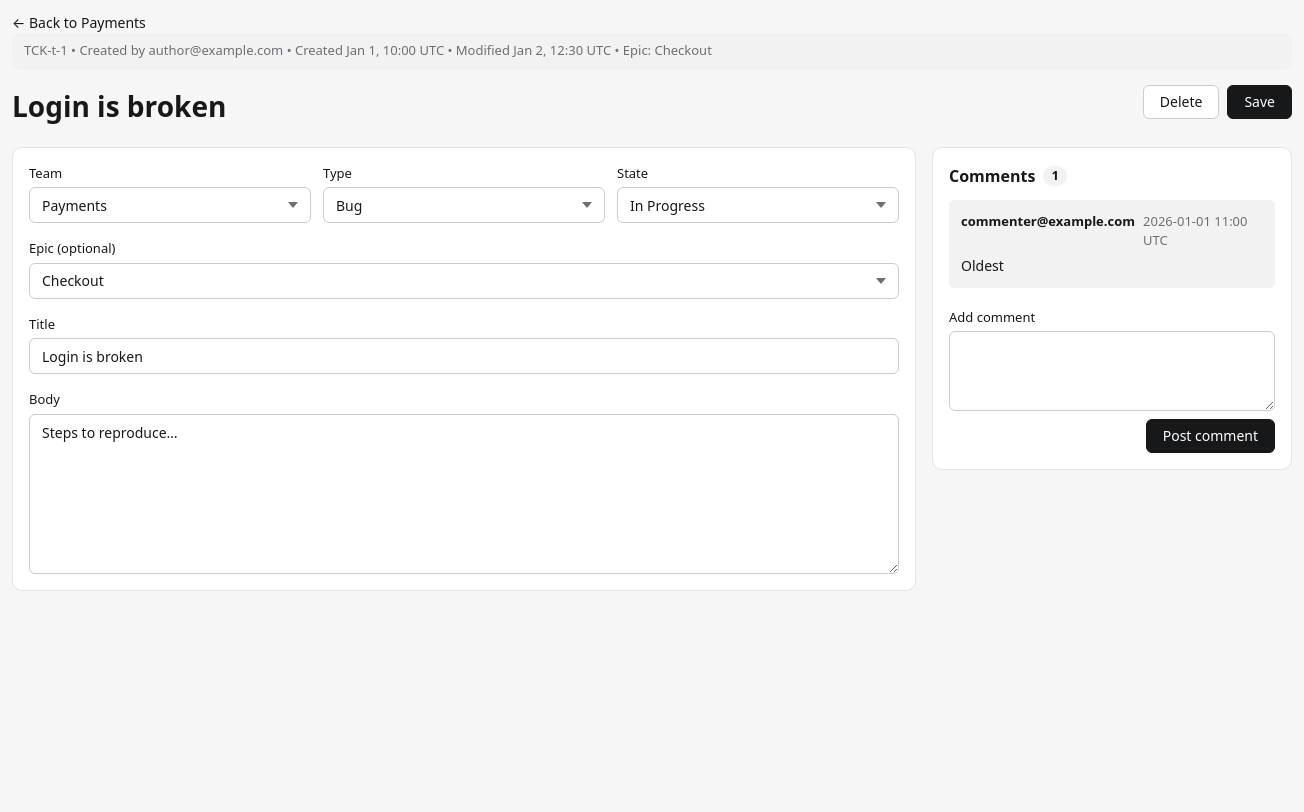
it: Comments panel › posts a comment and refetches the list
This screenshot has width=1304, height=812.
Expected: the text "Oldest" is shown, x1=961 y1=256 x2=1004 y2=274
Type "Fresh comment" into the text box labelled "Add comment". click: x=1112, y=371
box: x1=949 y1=331 x2=1275 y2=411
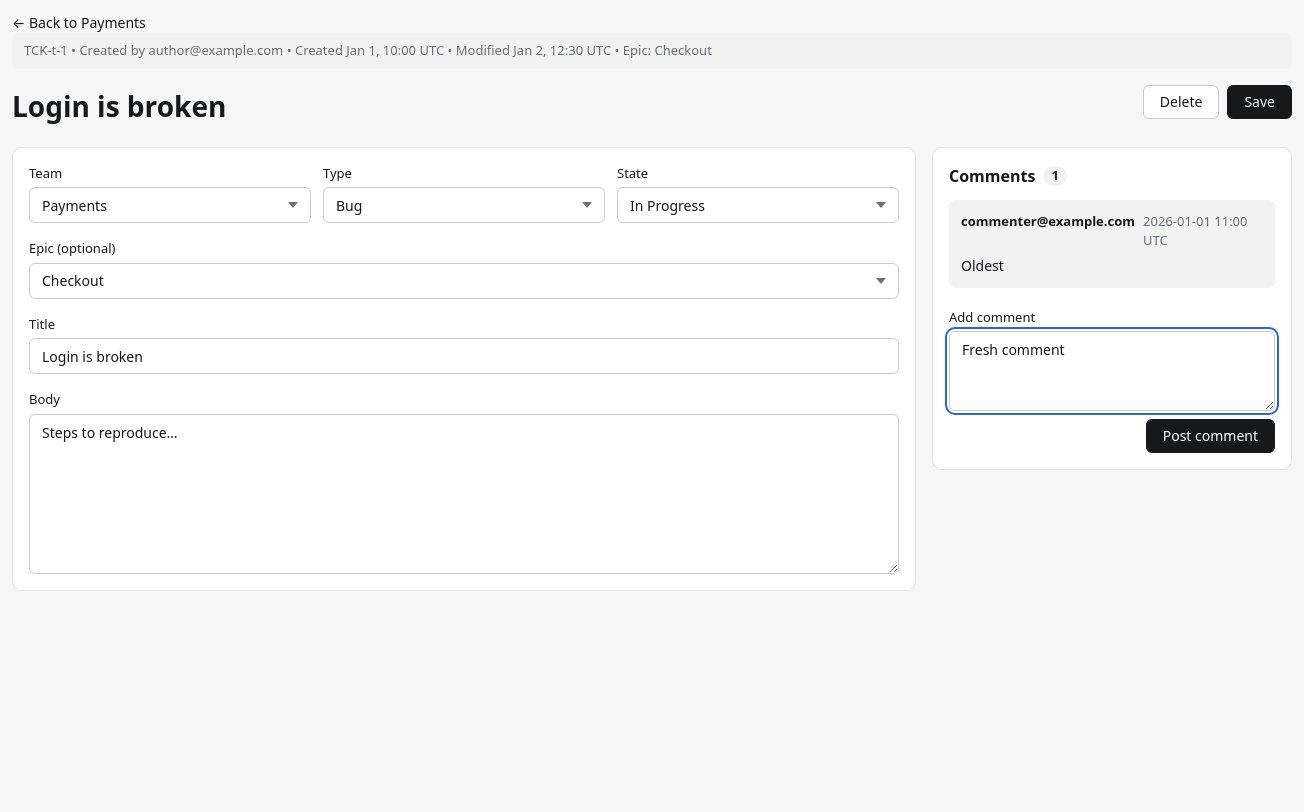
Click the button "Post comment". click: x=1210, y=436
box: x1=1146 y1=419 x2=1275 y2=453
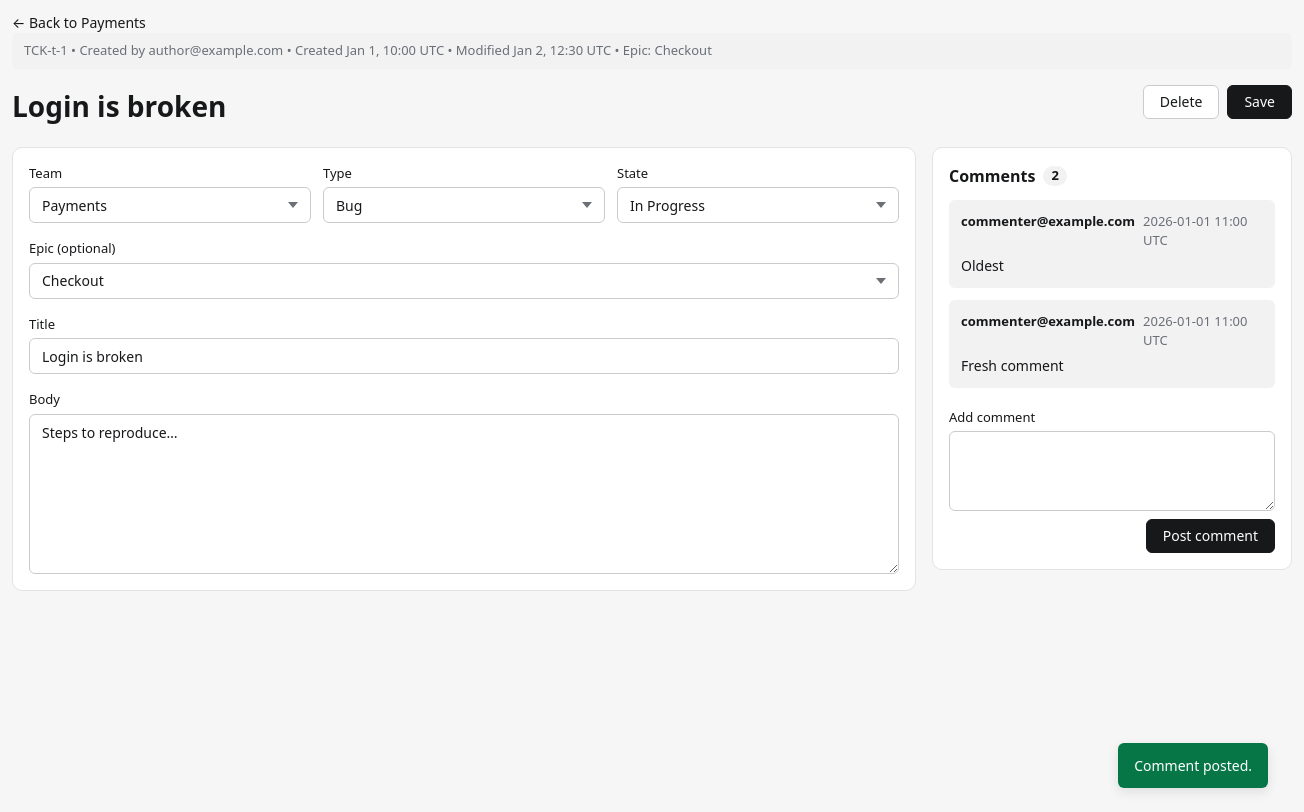
Now the text "Fresh comment" is shown, box x1=961 y1=356 x2=1064 y2=374
